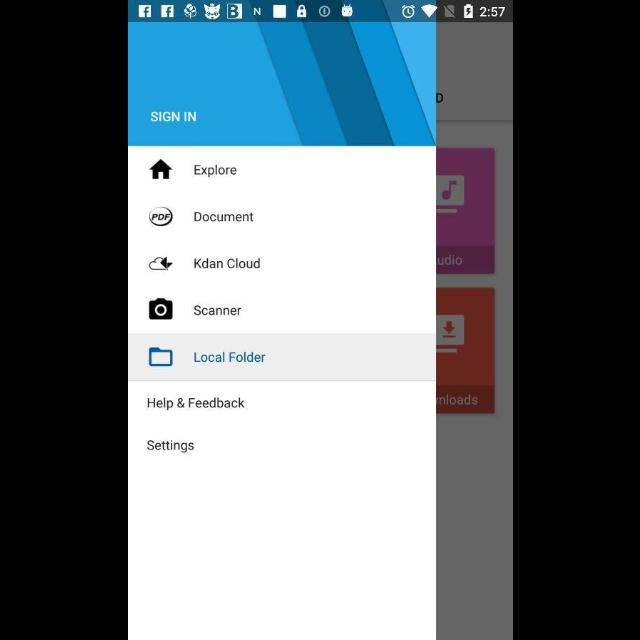icon: (149, 160, 173, 180), (148, 348, 172, 367), (149, 208, 173, 226), (148, 257, 174, 271)
image: (148, 298, 172, 320)
panel: (128, 22, 436, 640)
text: (146, 397, 244, 411), (193, 351, 265, 363), (193, 258, 260, 270), (192, 304, 242, 316), (194, 212, 254, 222), (194, 164, 236, 178), (146, 440, 194, 452), (150, 111, 196, 122)
uppertaskbar: (128, 1, 512, 23)
